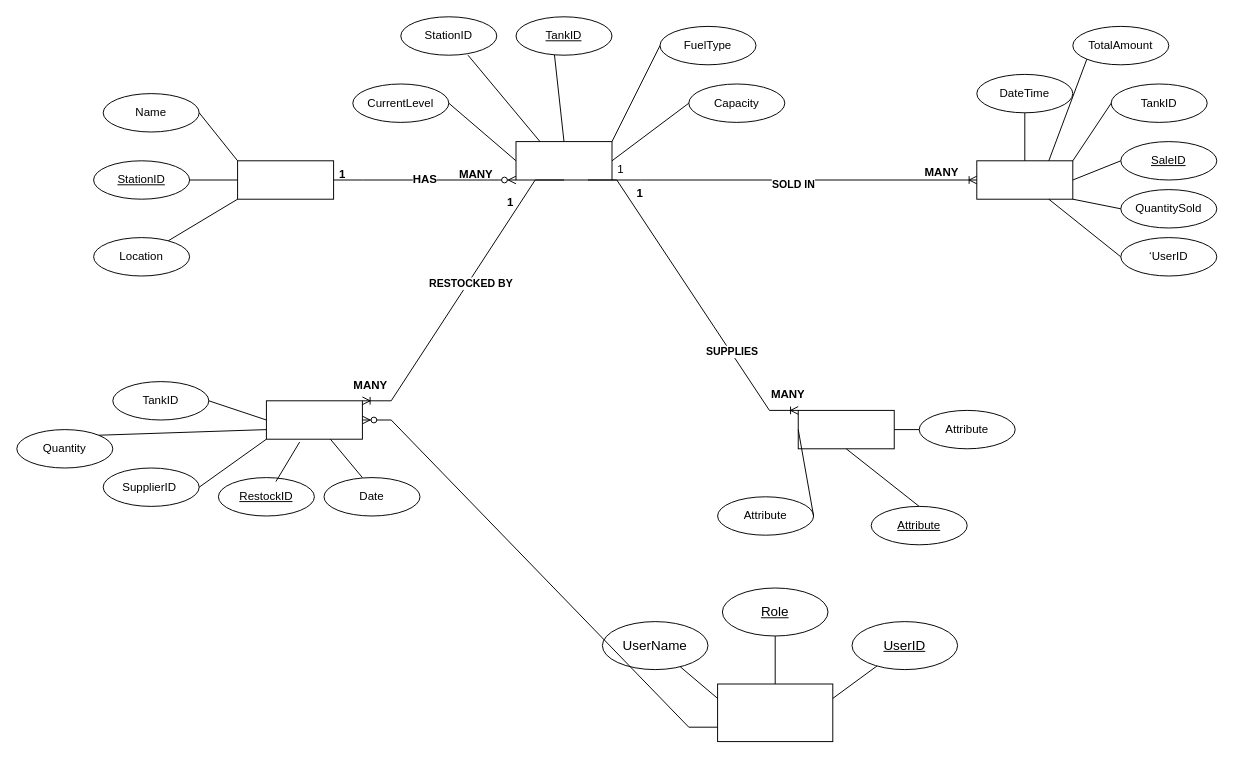
This 1234x758 diagram has some shape labels left out. Here are the shapes that lost their labels. From the top down, the centre of each, then its label:
[285,179]: FuelStation
[563,160]: Tank
[1024,179]: Sale
[313,419]: Restock
[845,429]: Supplier
[775,712]: User
